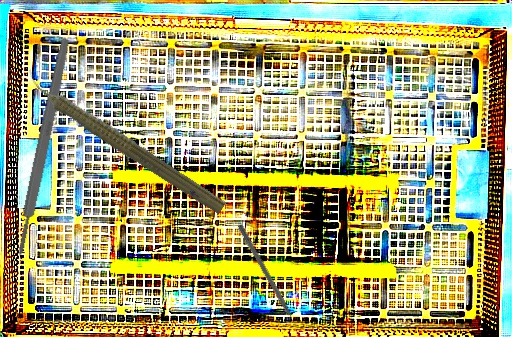Handpiece: (17, 64, 232, 219)
Pusher: (236, 223, 301, 334)
Scalpel Handle: (12, 36, 73, 257)
